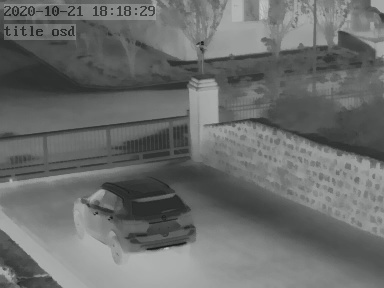vehicle: (73, 175, 197, 264)
